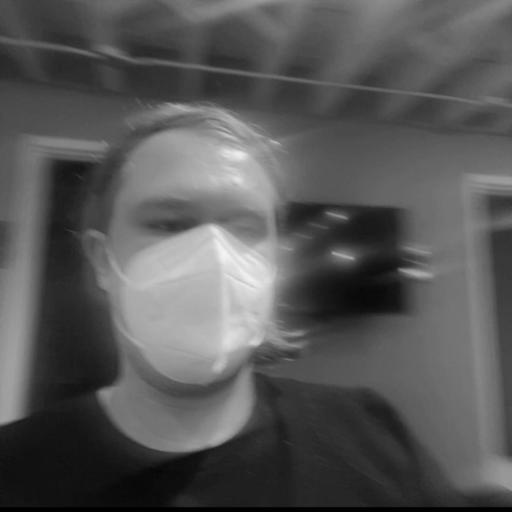mask: (33, 84, 356, 442)
